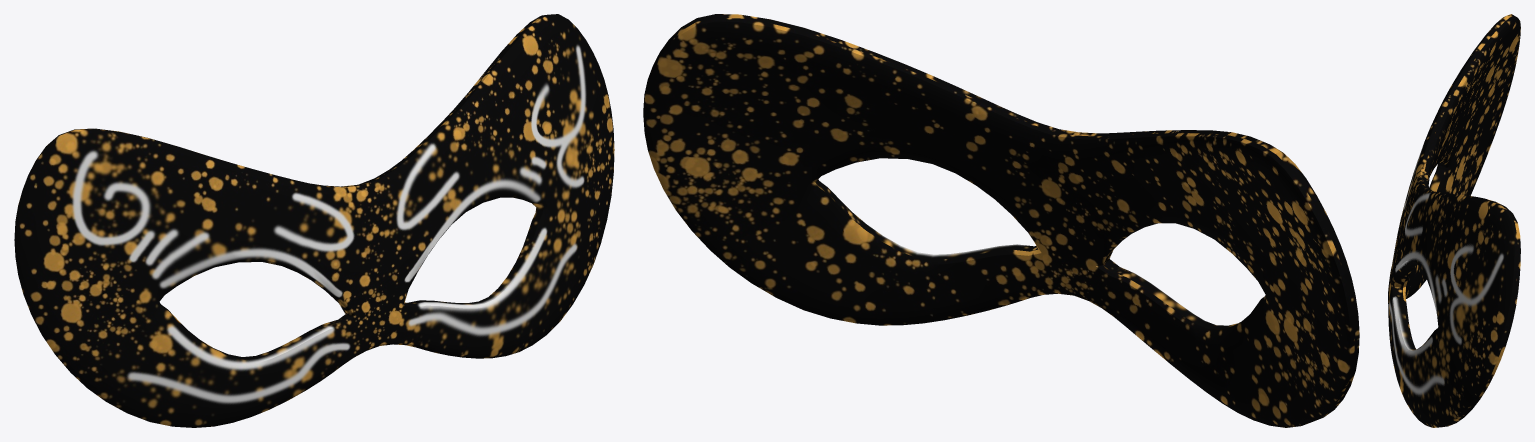
File: Batmask.gltf
3 views of the same model, side by side, from view 1: azimuth 30°, elevation 25°; view 2: azimuth 150°, elevation 25°; view 3: azimuth 270°, elevation 25° (orthographic). The views are drawn at different scales.
Parts seen in each view (by area): view 1: mask2; view 2: mask2; view 3: mask2.
Boxes of the visible parts, bbox=[...] form: mask2: bbox=[14, 14, 614, 427]; mask2: bbox=[643, 14, 1359, 427]; mask2: bbox=[1388, 14, 1520, 427].
Bounding box in the file's own units: 6.22 × 2.77 × 1.41.
1 material, 1 textured.
